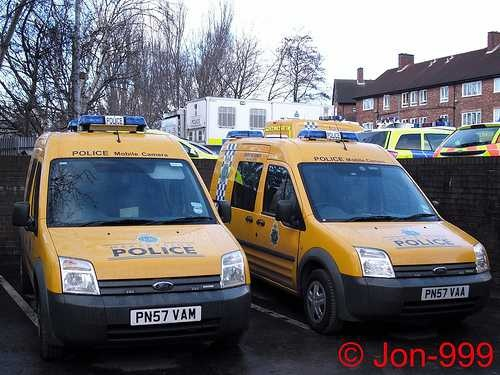Police Car: (196, 123, 495, 328), (24, 115, 254, 373)
